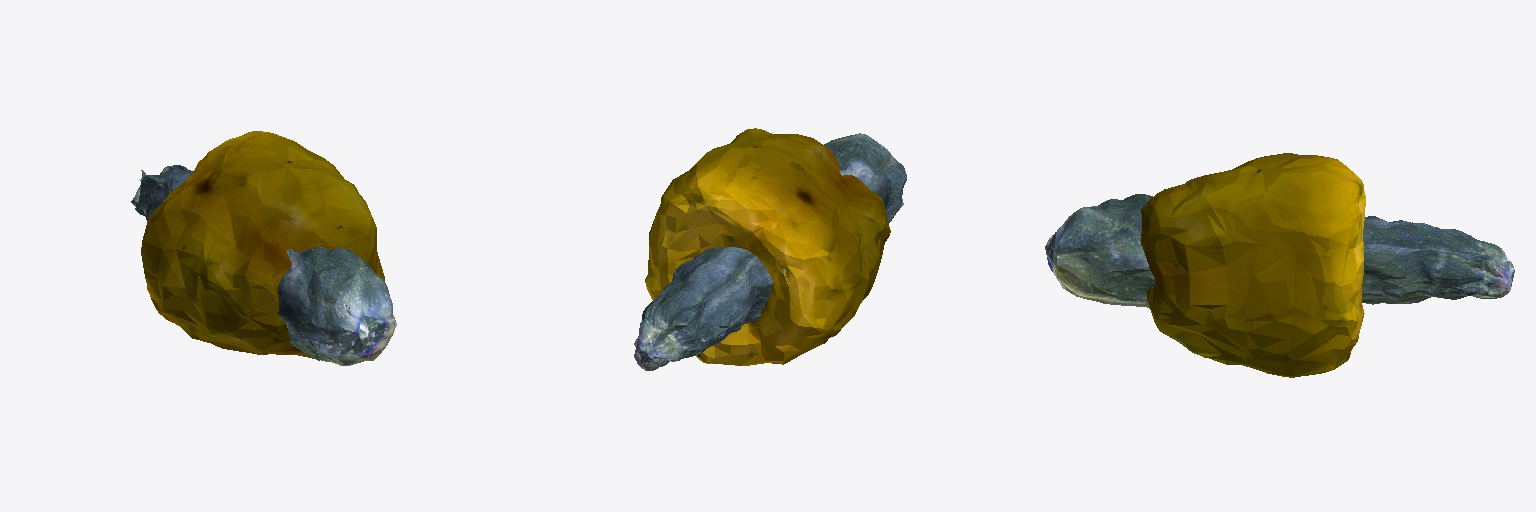
3 views of the same model, side by side, from view 1: azimuth 30°, elevation 25°; view 2: azimuth 150°, elevation 25°; view 3: azimuth 270°, elevation 25° (orthographic).
Visible parts, largest first — view 1: Pushed_Yellow_pepper_with_Yellow_pepper_yellow_pepper; view 2: Pushed_Yellow_pepper_with_Yellow_pepper_yellow_pepper; view 3: Pushed_Yellow_pepper_with_Yellow_pepper_yellow_pepper.
Boxes of the visible parts, <box> form: Pushed_Yellow_pepper_with_Yellow_pepper_yellow_pepper: <box>131,131,396,365</box>; Pushed_Yellow_pepper_with_Yellow_pepper_yellow_pepper: <box>634,128,906,370</box>; Pushed_Yellow_pepper_with_Yellow_pepper_yellow_pepper: <box>1045,153,1514,377</box>.
Bounding box in the file's own units: 0.986 × 0.9792 × 2.08.
Materials: 2 (1 with a texture image).